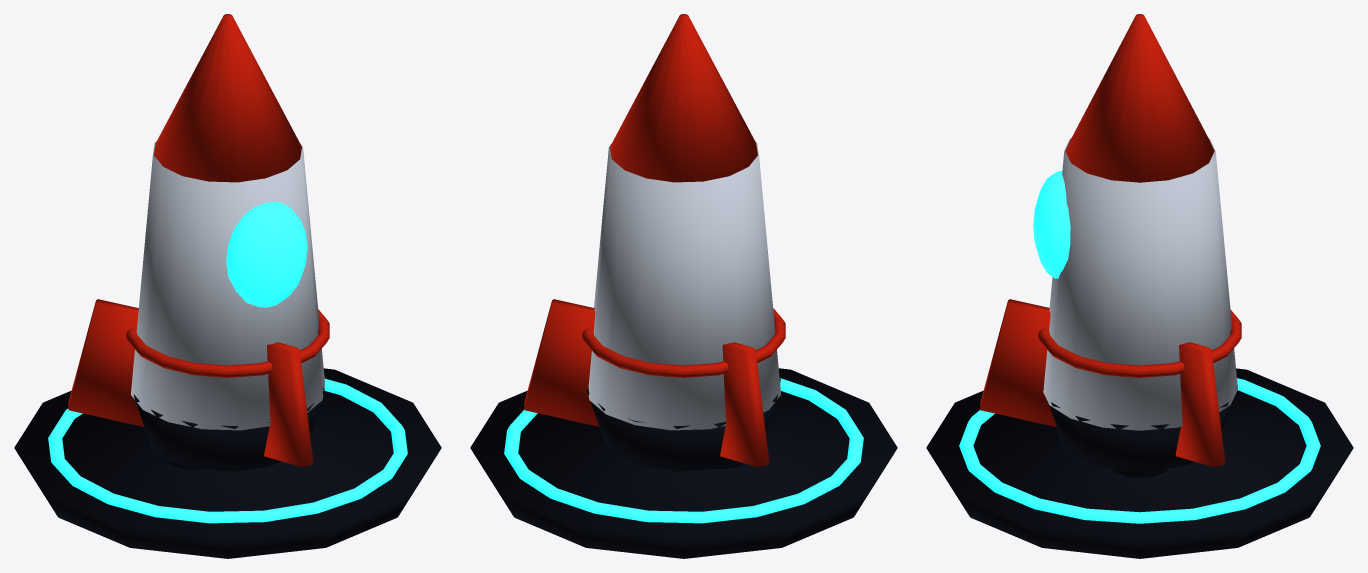
The model's file is spaceship_craft.glb.
The picture shows the model from 3 angles, left to right: view 1: azimuth 30°, elevation 25°; view 2: azimuth 150°, elevation 25°; view 3: azimuth 270°, elevation 25°; orthographic projection.
Visible parts, largest first — view 1: SpaceshipCraft; view 2: SpaceshipCraft; view 3: SpaceshipCraft.
Part boxes in pixels (x1=…): SpaceshipCraft: x1=14, y1=14, x2=441, y2=558; SpaceshipCraft: x1=470, y1=14, x2=897, y2=558; SpaceshipCraft: x1=926, y1=14, x2=1353, y2=558.
Size of the model in its own units: 1.92 by 2.28 by 1.92.
